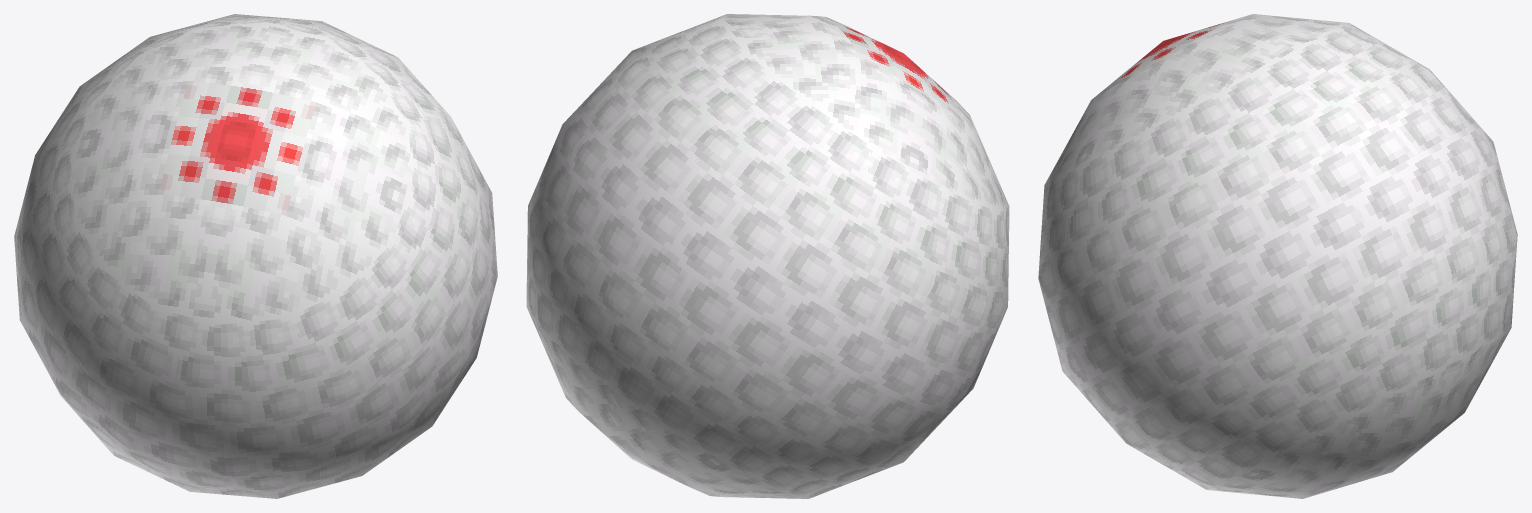
Rendered from glf_ball1__glf_ball1.glb.
3 renders of one model, left to right at view 1: azimuth 30°, elevation 25°; view 2: azimuth 150°, elevation 25°; view 3: azimuth 270°, elevation 25°, orthographic.
Parts seen in each view (by area): view 1: polygon0; view 2: polygon0; view 3: polygon0.
Part boxes in pixels (box(x1,y1,x2,y2)): polygon0: box(14, 14, 497, 498); polygon0: box(526, 14, 1009, 498); polygon0: box(1038, 14, 1517, 498).
Bounding box in the file's own units: 0.9998 × 0.989 × 0.9813.
Materials: 1 (1 with a texture image).
